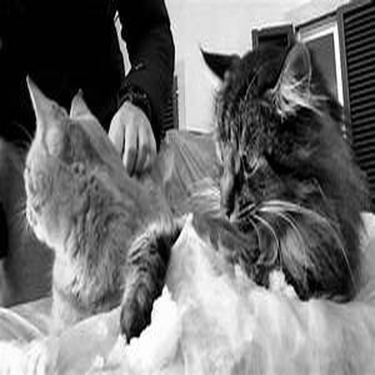cat: (121, 42, 365, 342), (22, 76, 209, 326)
